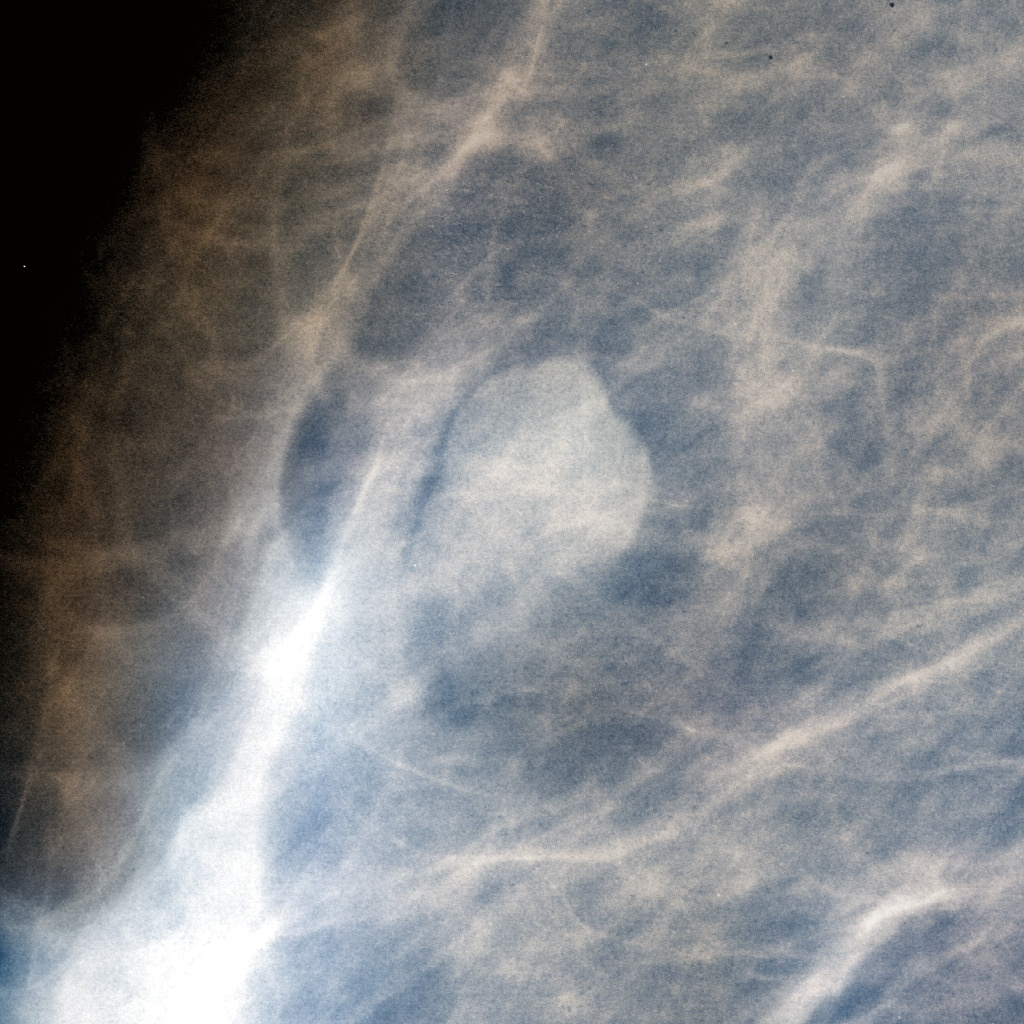tumor: (387, 385, 637, 639)
